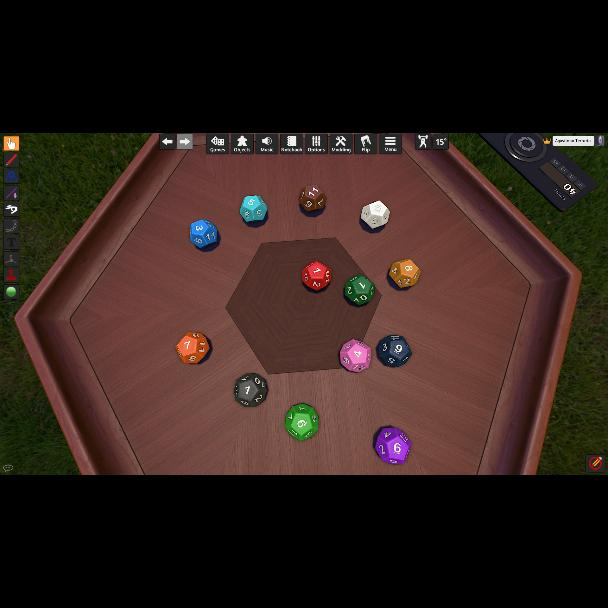d12: (374, 427, 410, 465), (285, 404, 319, 440), (235, 374, 268, 406), (176, 332, 208, 364), (378, 335, 410, 367), (340, 339, 370, 372), (389, 259, 419, 289), (360, 200, 390, 230), (344, 275, 374, 305), (302, 261, 330, 291), (189, 220, 217, 248), (240, 196, 268, 222), (298, 185, 324, 212)
